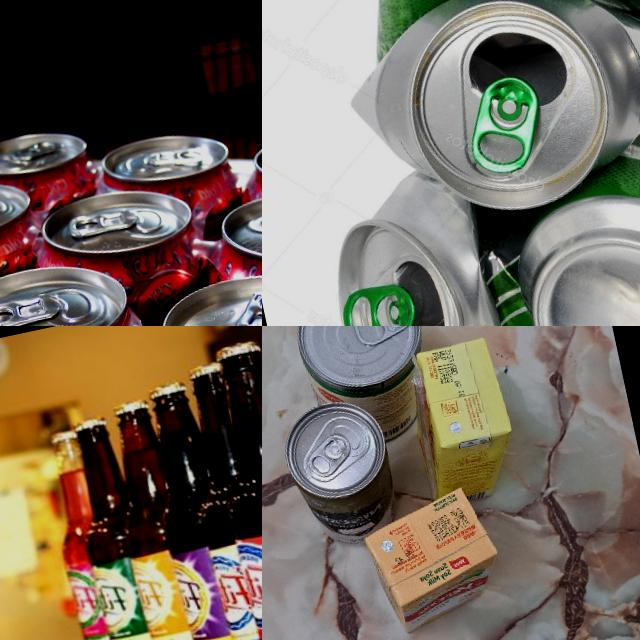aba de lata: (456, 70, 550, 180), (336, 279, 418, 326), (300, 428, 360, 484), (0, 286, 65, 326), (66, 202, 136, 239), (348, 326, 414, 352), (227, 277, 262, 326)
caixinha: (358, 483, 510, 639), (398, 334, 523, 508)
garrafa de vidro: (137, 379, 253, 640), (99, 398, 213, 640), (167, 361, 262, 640), (58, 414, 169, 640), (37, 428, 131, 640), (197, 337, 262, 640)
lata: (311, 0, 640, 239), (310, 102, 640, 326), (275, 390, 404, 553), (286, 326, 441, 453)
